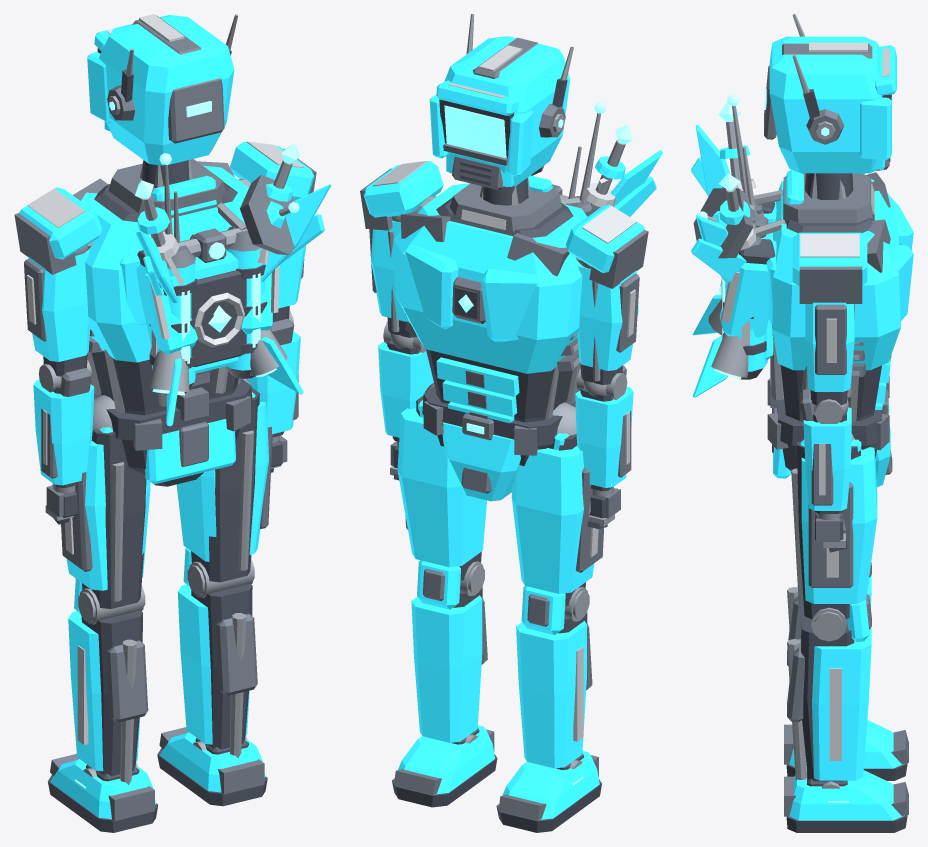
File: agent_kayo.glb
The picture shows the model from 3 angles, left to right: view 1: azimuth 30°, elevation 25°; view 2: azimuth 150°, elevation 25°; view 3: azimuth 270°, elevation 25°; orthographic projection. The views are drawn at different scales.
Visible parts, largest first — view 1: Kayo_Torso, Kayo_Head, Kayo_Shin_R, Kayo_Shin_L, Kayo_Thigh_L, Kayo_Thigh_R, Kit_Green, Kayo_Pelvis, Kayo_Forearm_L, Kayo_UpperArm_L, Kit_Red, Kit_Blue (+4 smaller); view 2: Kayo_Torso, Kayo_Shin_R, Kayo_Shin_L, Kayo_Head, Kayo_Thigh_L, Kayo_Thigh_R, Kayo_Pelvis, Kayo_Forearm_L, Kayo_UpperArm_L, Kayo_Forearm_R, Kayo_UpperArm_R, Kit_Gold (+3 smaller); view 3: Kayo_Torso, Kayo_Shin_R, Kayo_Head, Kayo_Thigh_R, Kit_Red, Kayo_Forearm_R, Kayo_UpperArm_R, Kayo_Pelvis, Kayo_Shin_L, Kit_Violet, Kit_Green, Kit_Gold (+1 smaller).
Part boxes in pixels (x1,y1,x2,y2): Kayo_Torso: (14,141,316,421); Kayo_Head: (87,14,238,165); Kayo_Shin_R: (157,547,267,806); Kayo_Shin_L: (47,578,157,832); Kayo_Thigh_L: (60,395,150,624); Kayo_Thigh_R: (176,378,272,597); Kit_Green: (159,153,299,373); Kayo_Pelvis: (90,378,255,486); Kayo_Forearm_L: (33,368,94,524); Kayo_UpperArm_L: (24,244,91,392); Kit_Red: (136,214,324,395); Kit_Blue: (149,202,267,395); Kayo_Torso: (360,161,648,423); Kayo_Shin_R: (392,560,497,807); Kayo_Shin_L: (496,586,601,832); Kayo_Head: (429,14,573,190); Kayo_Thigh_L: (511,402,603,621); Kayo_Thigh_R: (397,383,486,596); Kayo_Pelvis: (418,386,578,501); Kayo_Forearm_L: (575,365,633,528); Kayo_UpperArm_L: (576,260,639,399); Kayo_Forearm_R: (378,333,433,480); Kayo_UpperArm_R: (369,211,426,352); Kit_Gold: (582,125,632,209); Kayo_Torso: (764,169,913,422); Kayo_Shin_R: (784,594,908,832); Kayo_Head: (764,14,896,173); Kayo_Thigh_R: (791,434,877,641); Kit_Red: (691,157,775,378); Kayo_Forearm_R: (800,389,853,552); Kayo_UpperArm_R: (805,302,854,423); Kayo_Pelvis: (767,376,892,486); Kayo_Shin_L: (784,562,908,780); Kit_Violet: (692,125,768,397); Kit_Green: (693,95,773,360); Kit_Gold: (718,102,755,250).
Size of the model in its own units: 0.6443 by 1.78 by 0.4708.
